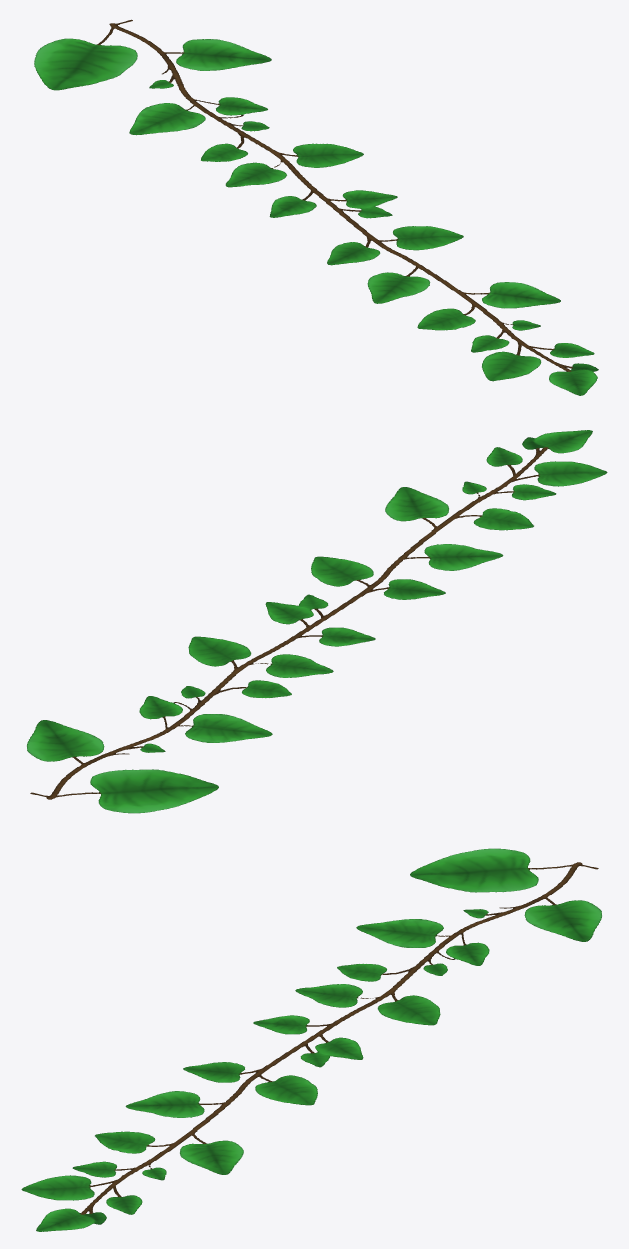
Rendered from Ivy2.fbx.
3 views of the same model, one above another, from view 1: azimuth 30°, elevation 25°; view 2: azimuth 150°, elevation 25°; view 3: azimuth 330°, elevation 25° (orthographic). The views are drawn at different scales.
Visible parts, largest first — view 1: Ivy2; view 2: Ivy2; view 3: Ivy2.
Part boxes in pixels (bbox=[...]): Ivy2: bbox=[34, 19, 598, 395]; Ivy2: bbox=[27, 430, 607, 813]; Ivy2: bbox=[21, 848, 601, 1231].
Bounding box in the file's own units: 3.1 × 8.22e-16 × 13.42.
